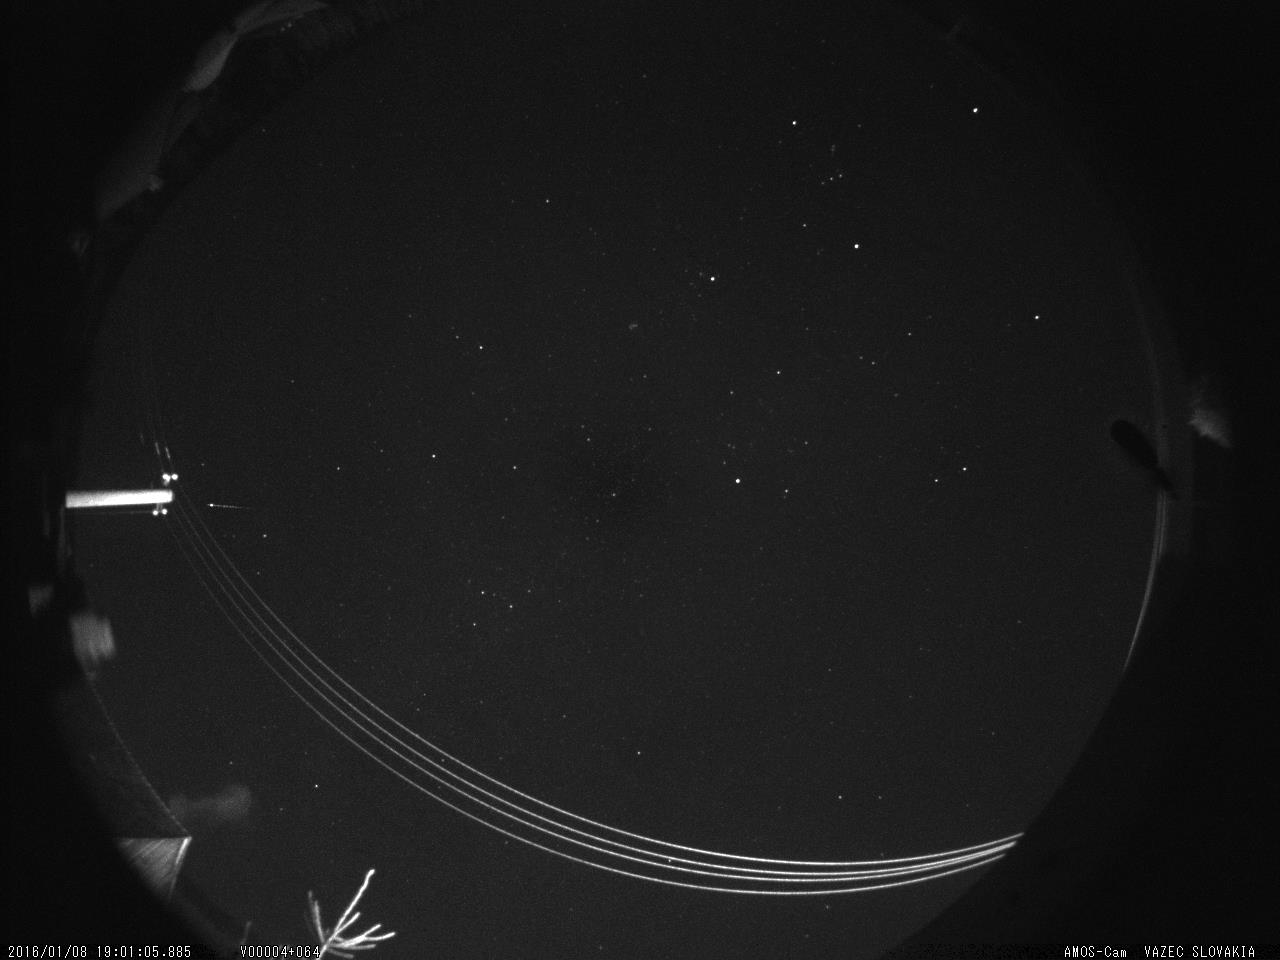meteor: (199, 489, 265, 532)
